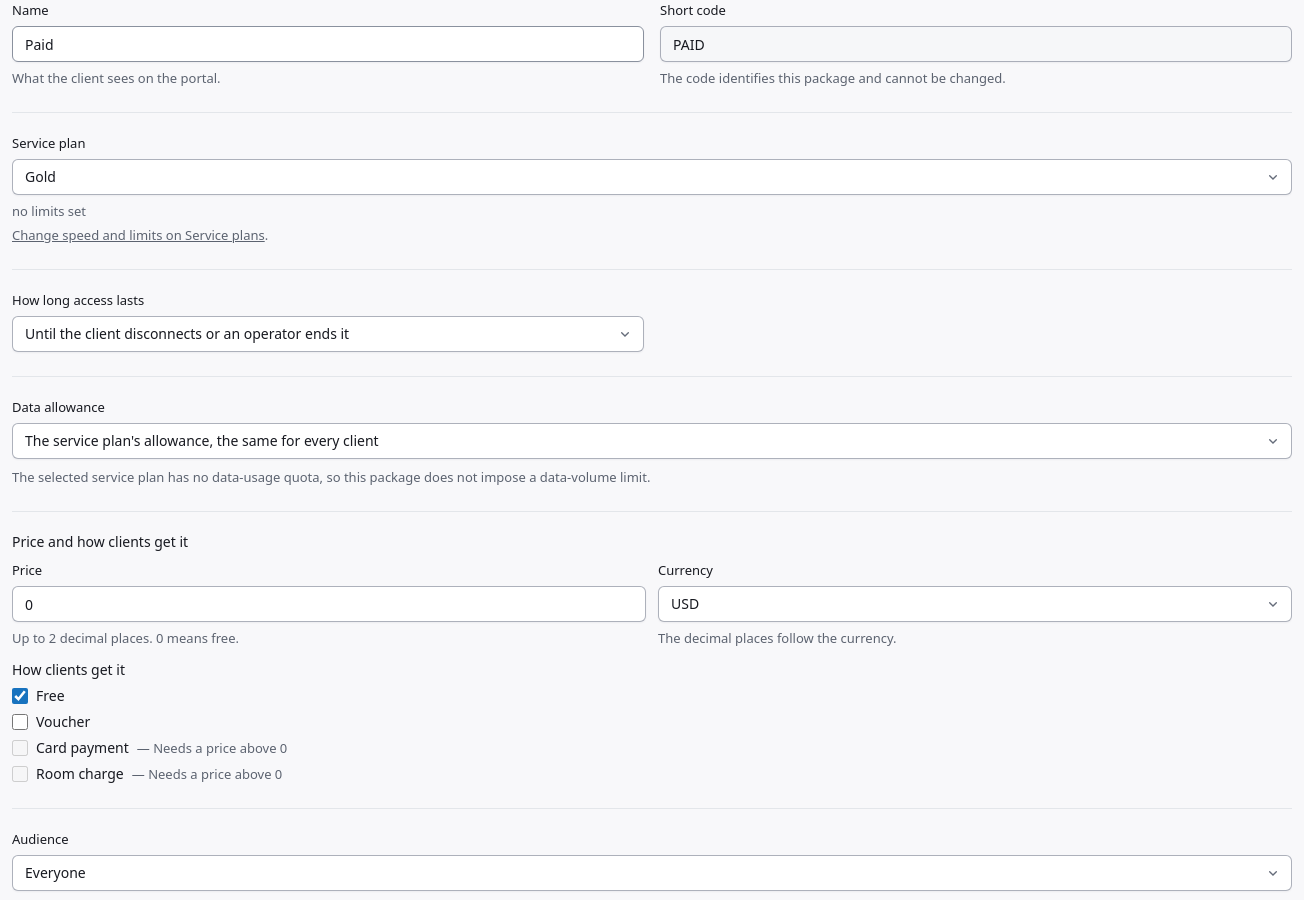
Test: PackageForm price section › refuses to save an invalid price section with a readable message
Type "25" into the field labelled "Price" at (329, 604), box [12, 586, 646, 622]
(page scrolled)
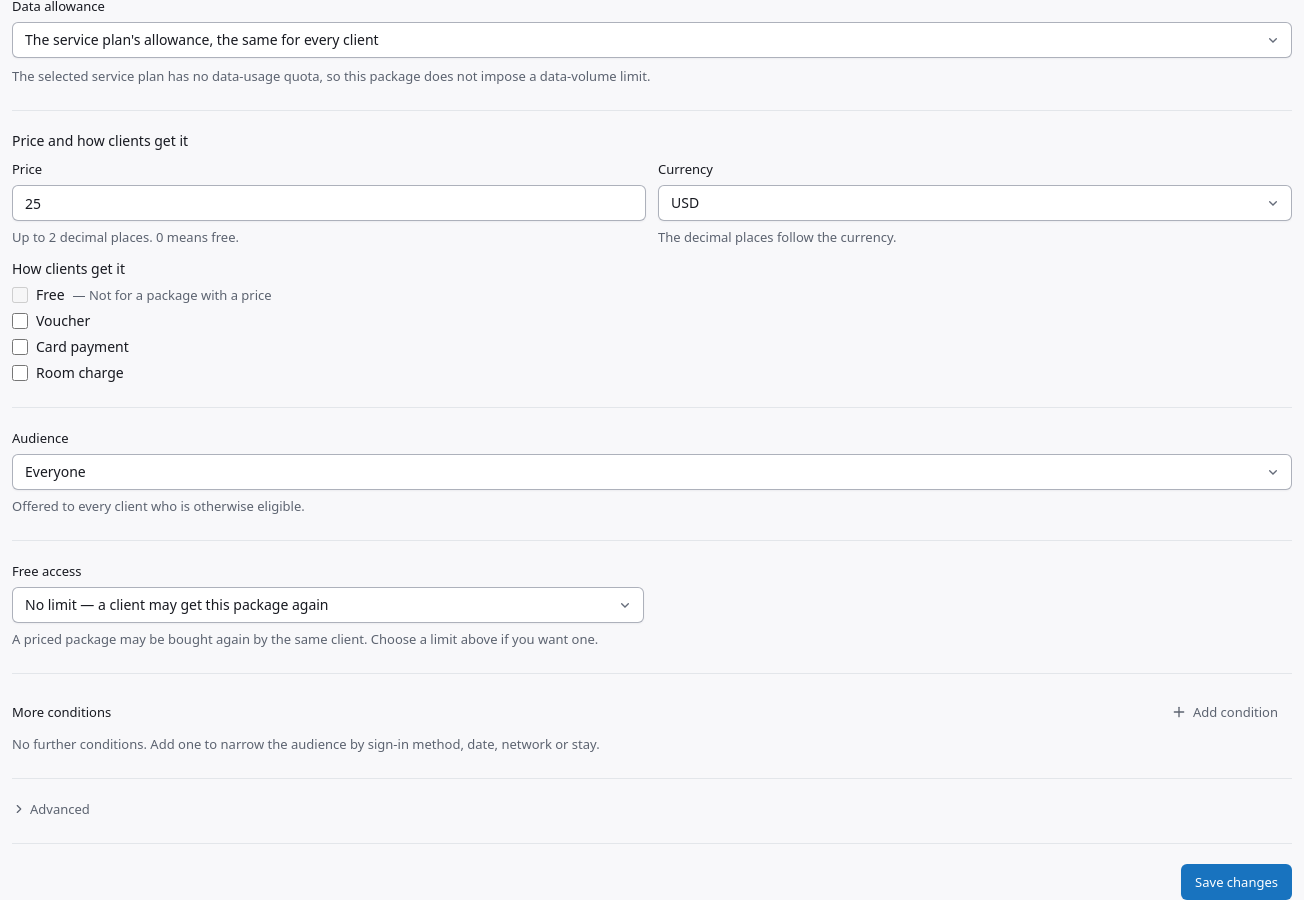
Click the button "Save changes" at (1237, 882), box [1181, 864, 1292, 899]
(page scrolled)
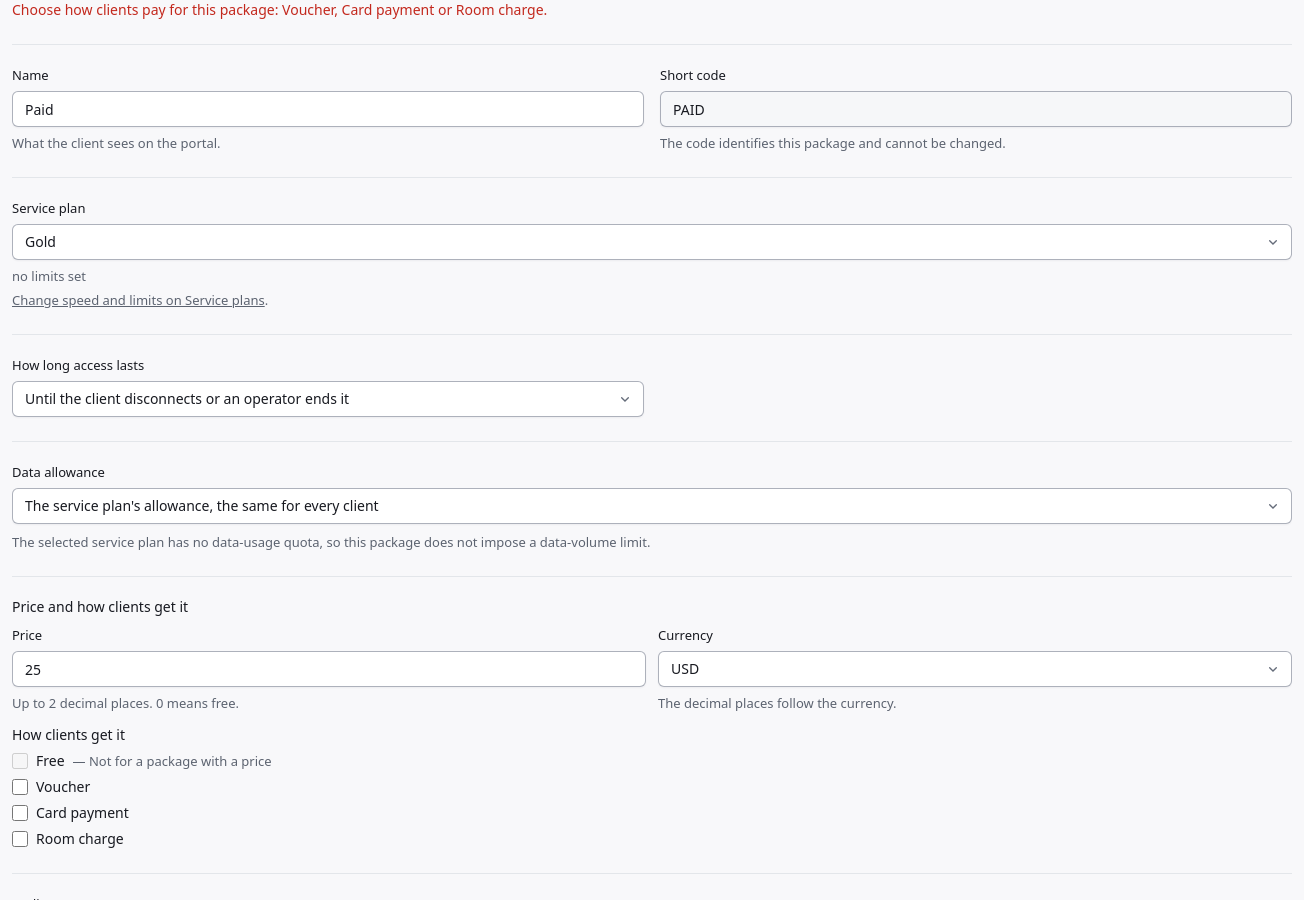
Now the message shows "Choose how clients pay", box [12, 0, 547, 19]
